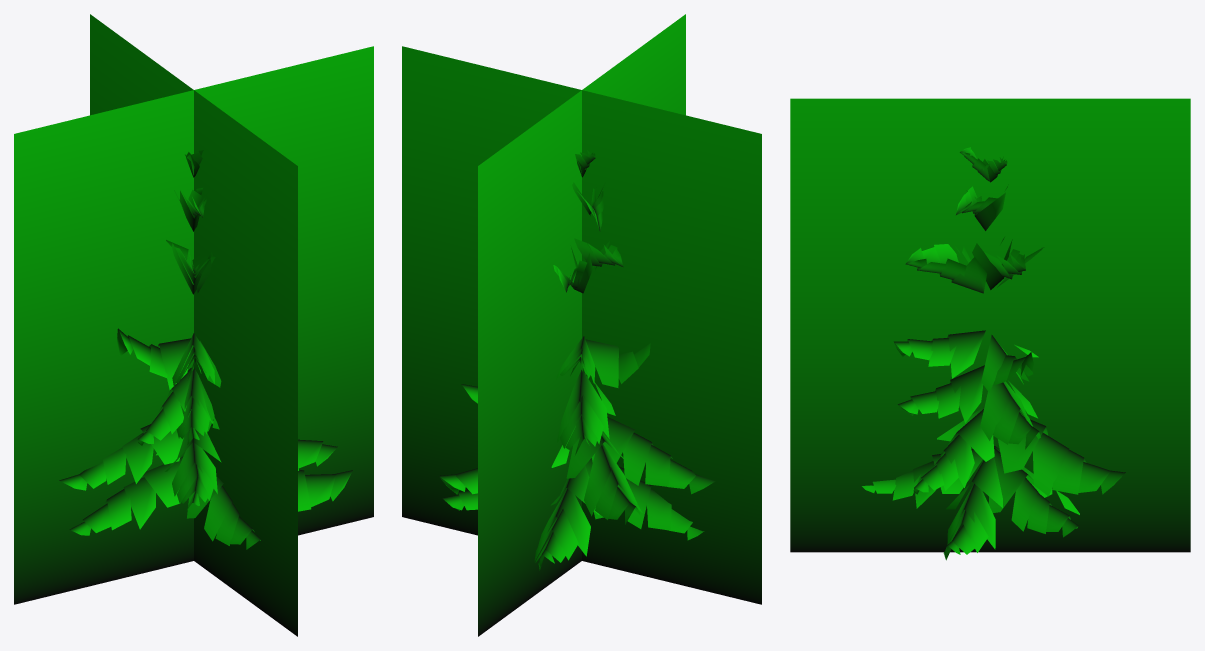
Rendered from Tree_Pine.fbx.
3 renders of one model, left to right at view 1: azimuth 30°, elevation 25°; view 2: azimuth 150°, elevation 25°; view 3: azimuth 270°, elevation 25°, orthographic. The views are drawn at different scales.
Visible parts, largest first — view 1: IL3DN_Tree_Pine_01_Card, IL3DN_Tree_Pine_01_Leaves; view 2: IL3DN_Tree_Pine_01_Card, IL3DN_Tree_Pine_01_Leaves; view 3: IL3DN_Tree_Pine_01_Card, IL3DN_Tree_Pine_01_Leaves.
Part boxes in pixels (bbox=[...]): IL3DN_Tree_Pine_01_Card: bbox=[14, 14, 373, 636]; IL3DN_Tree_Pine_01_Leaves: bbox=[59, 150, 352, 549]; IL3DN_Tree_Pine_01_Card: bbox=[402, 14, 761, 636]; IL3DN_Tree_Pine_01_Leaves: bbox=[439, 150, 715, 570]; IL3DN_Tree_Pine_01_Card: bbox=[790, 98, 1190, 552]; IL3DN_Tree_Pine_01_Leaves: bbox=[862, 147, 1125, 560].
Size of what is drawn, in the model's own units: 400 by 500 by 400.
